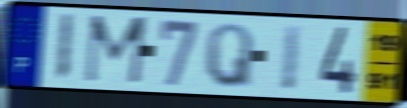4: (318, 24, 358, 96)
7: (157, 16, 201, 89)
I: (279, 23, 304, 94), (53, 12, 76, 84)
M: (81, 14, 152, 88)
Q: (204, 21, 255, 91)
